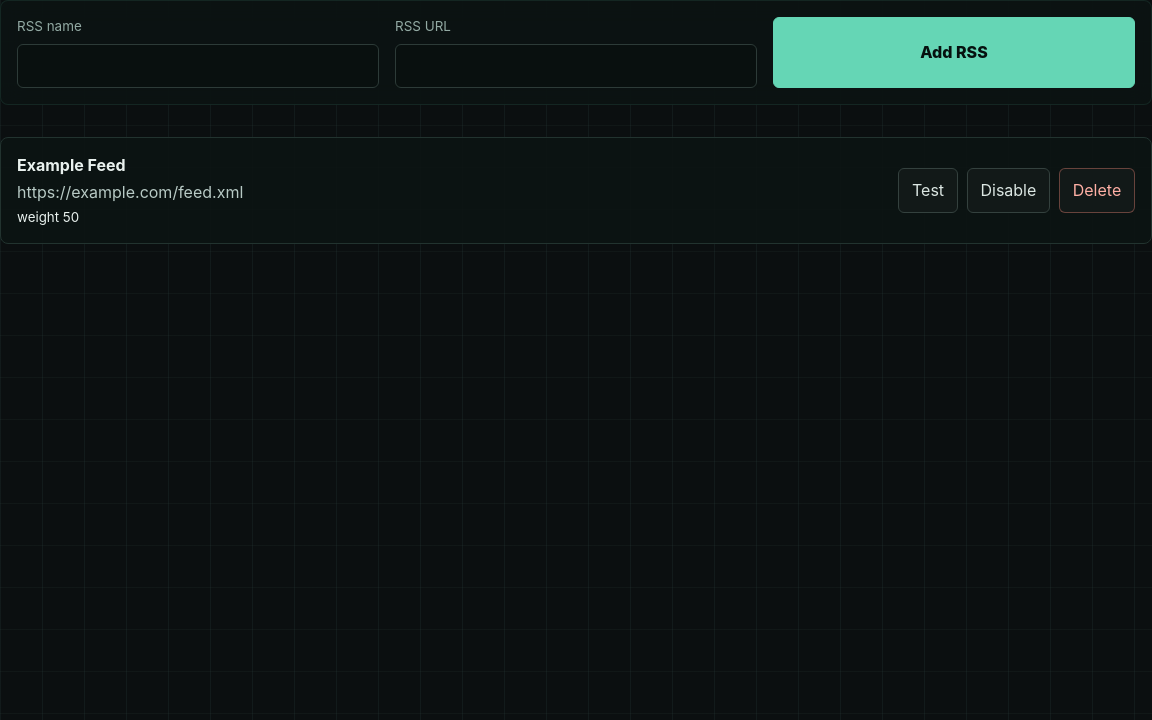
SourcesPage › deletes a source after confirmation and reloads the list
Click the button "Delete".
click(1097, 190)  # box [1059,168,1135,213]
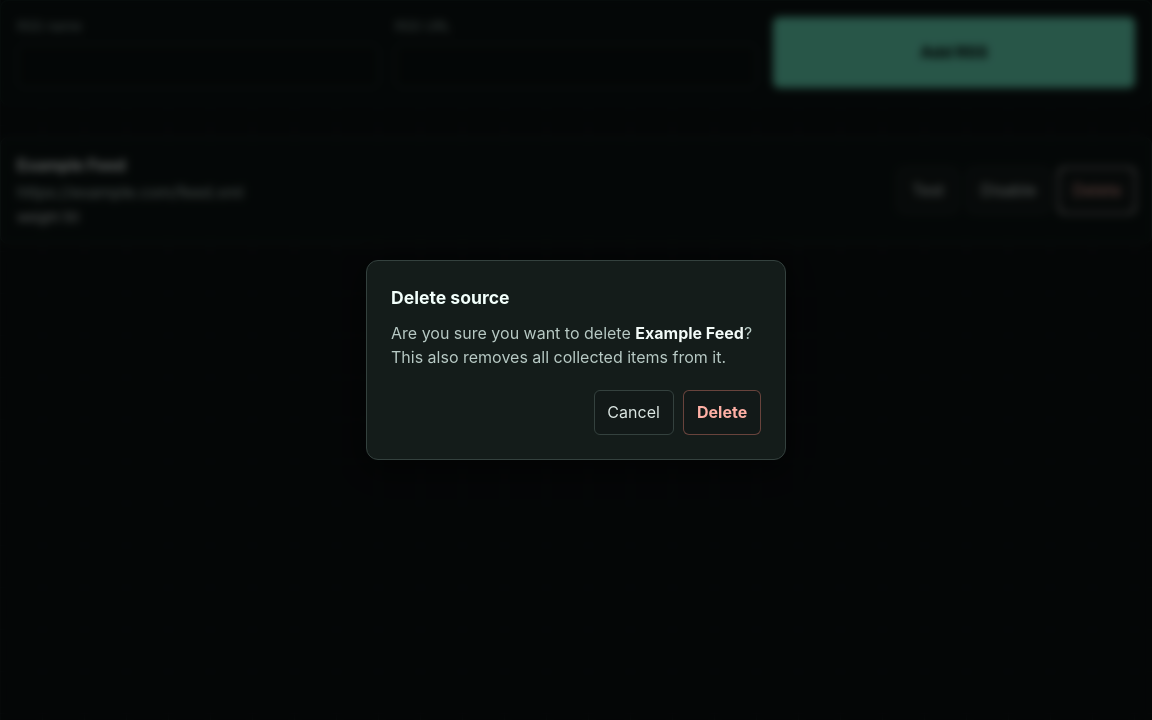
Now the text "Are you sure you want to delete" is shown, box [391,323,635,343]
Click the button "Delete".
click(722, 413)  # box [683,390,761,435]
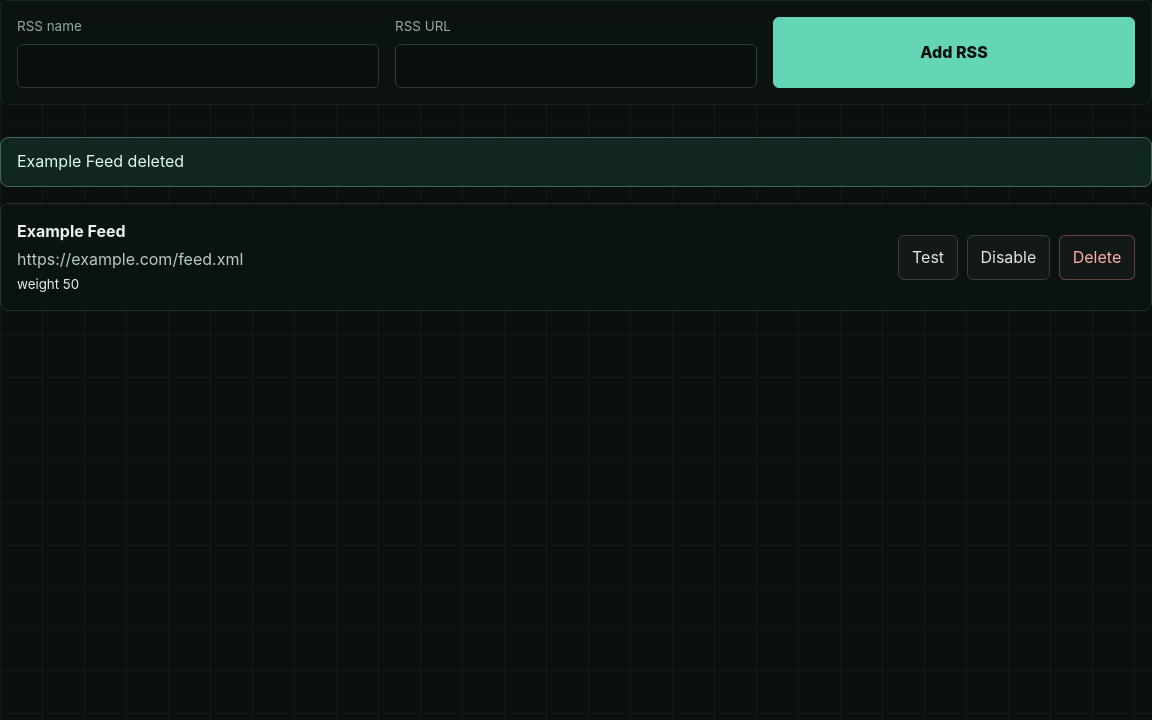
Now the text "Example Feed deleted" is shown, box [0,136,1151,187]
